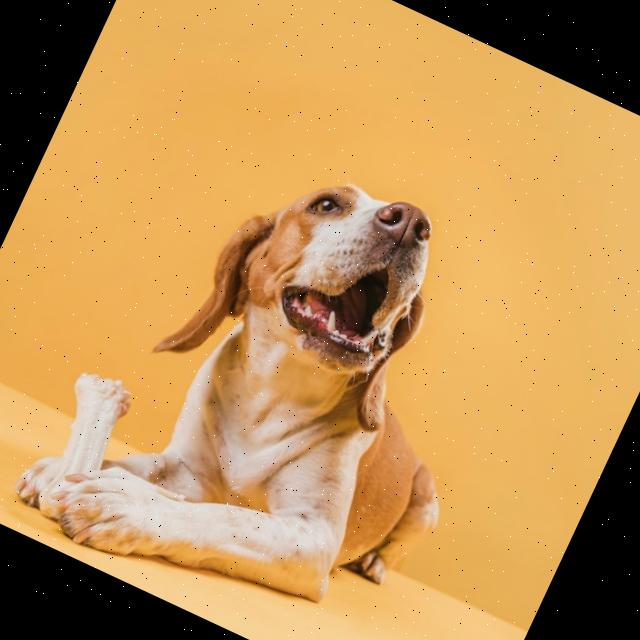Dog: (3, 103, 553, 640)
